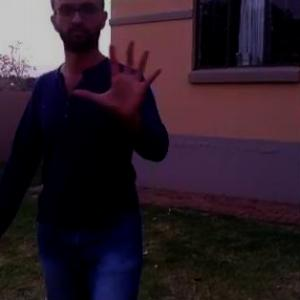follow_hand: (72, 34, 167, 123)
